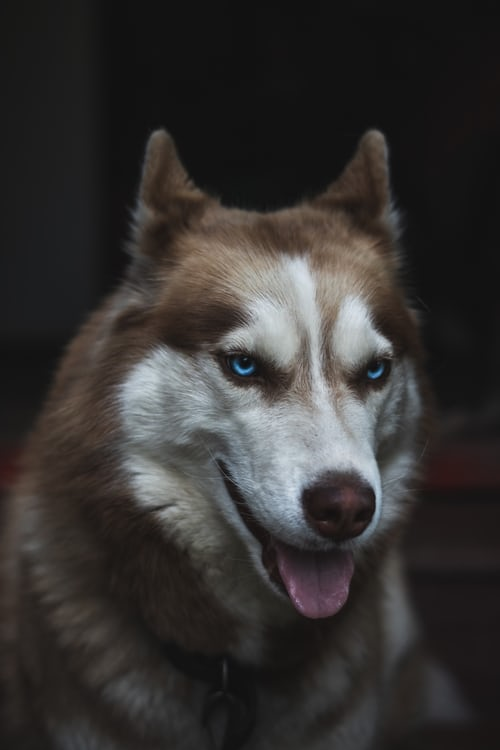husky: (79, 113, 427, 629)
